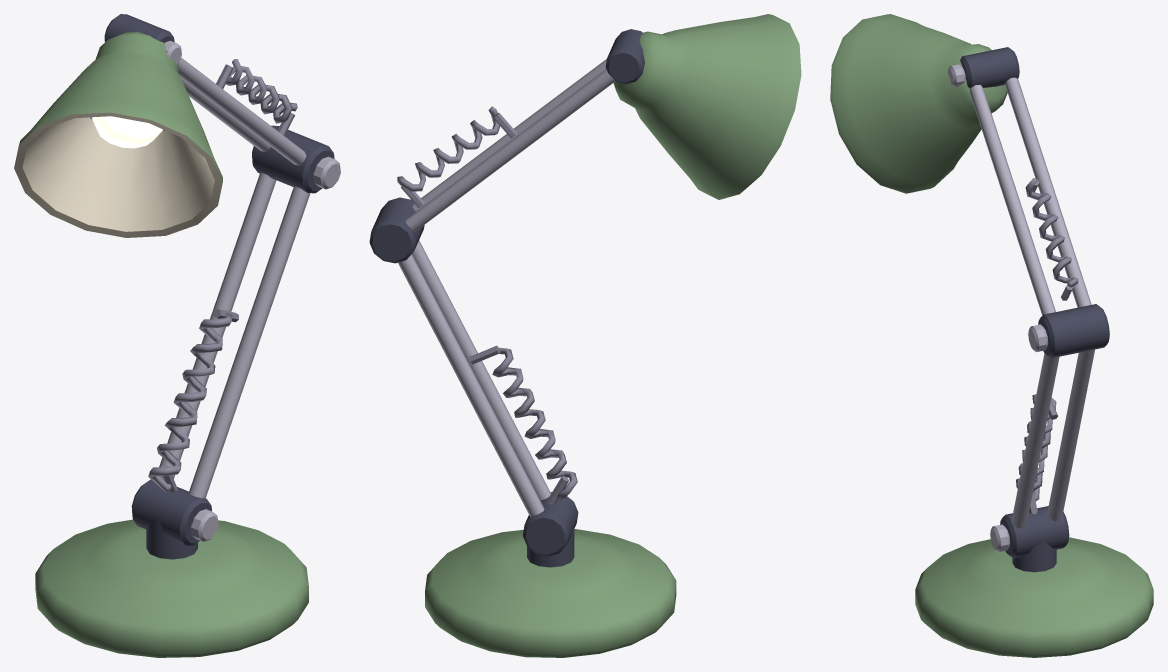
Rendered from lm_desk_lamp.glb.
3 views of the same model, side by side, from view 1: azimuth 30°, elevation 25°; view 2: azimuth 150°, elevation 25°; view 3: azimuth 270°, elevation 25° (orthographic). The views are drawn at different scales.
Parts seen in each view (by area): view 1: LandmarkDeskLampMesh; view 2: LandmarkDeskLampMesh; view 3: LandmarkDeskLampMesh.
Part boxes in pixels (x1,y1,x2,y2): LandmarkDeskLampMesh: [14, 14, 340, 657]; LandmarkDeskLampMesh: [369, 14, 801, 657]; LandmarkDeskLampMesh: [830, 14, 1153, 657].
Bounding box in the file's own units: 29.34 × 44.87 × 24.69.
